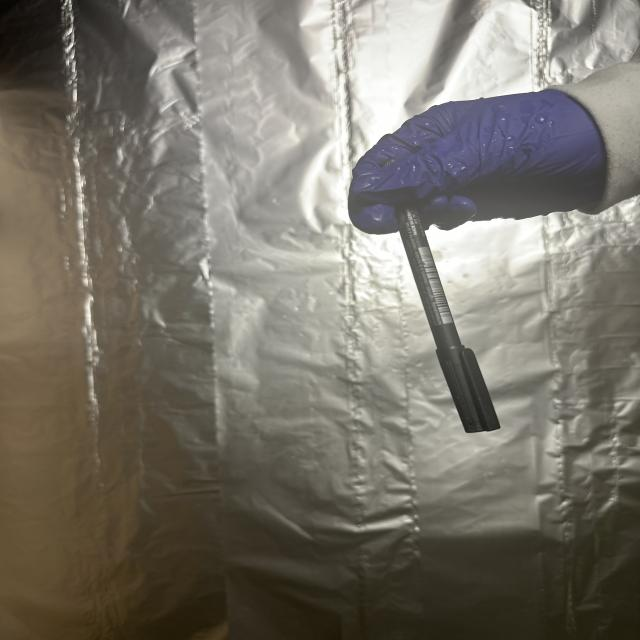gloves_contaminated: (348, 89, 608, 234)
